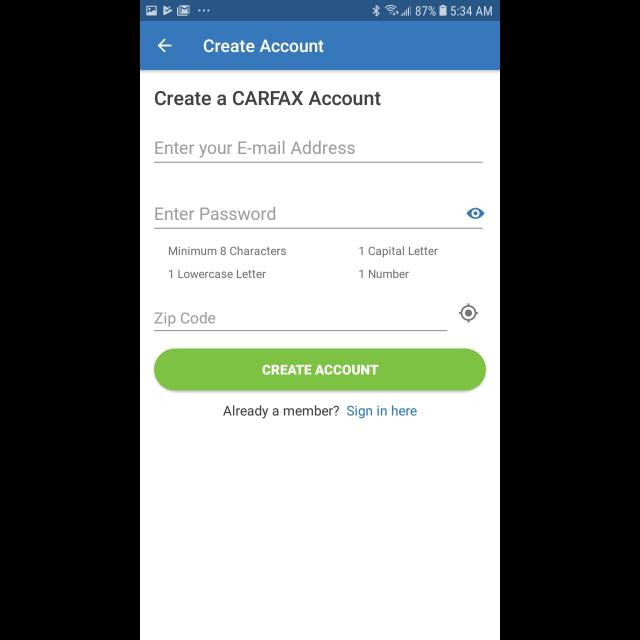icon: (458, 303, 478, 323), (158, 38, 172, 54), (467, 208, 485, 220)
input: (154, 207, 486, 230), (155, 140, 483, 163), (154, 312, 448, 332)
text: (155, 90, 381, 106), (157, 140, 356, 158), (224, 404, 340, 420), (156, 207, 276, 221), (204, 39, 324, 53), (169, 246, 287, 256), (347, 405, 418, 419), (156, 312, 217, 328), (359, 246, 438, 258), (170, 270, 266, 278), (359, 269, 409, 279)
textbutton: (154, 349, 486, 391)
uppertaskbar: (140, 1, 500, 22)
